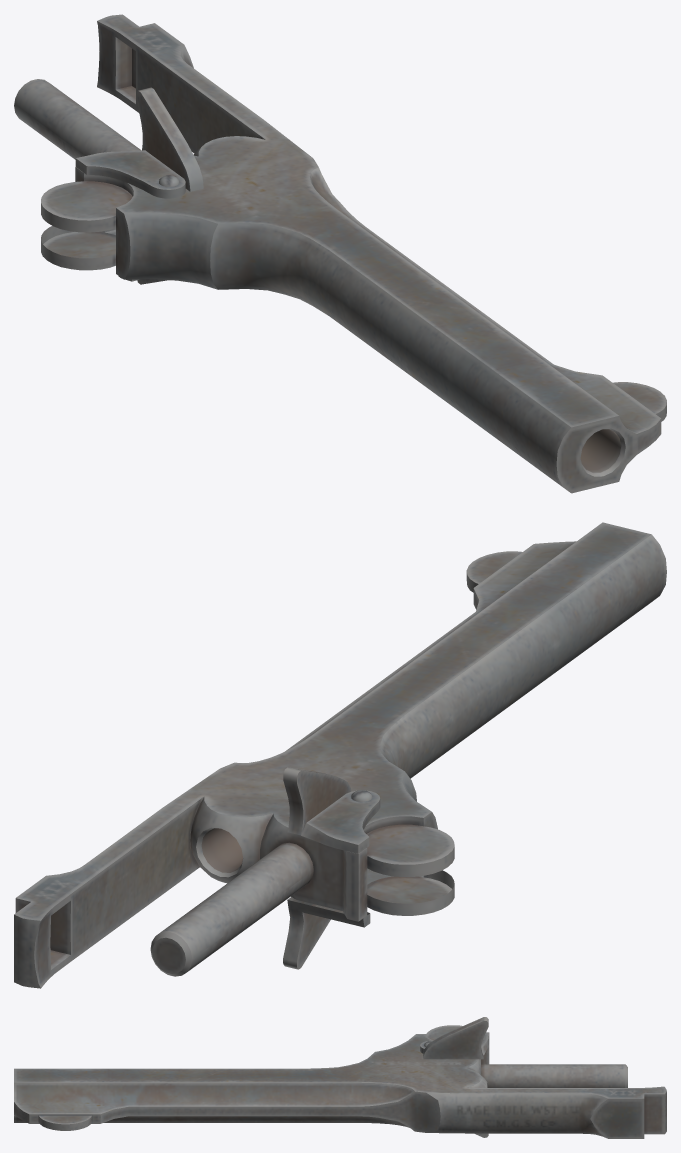
File: SM_RageBull_01b.fbx
3 views of the same model, one above another, from view 1: azimuth 30°, elevation 25°; view 2: azimuth 150°, elevation 25°; view 3: azimuth 270°, elevation 25° (orthographic). The views are drawn at different scales.
Visible parts, largest first — view 1: SM_RageBull_01b_LOD0; view 2: SM_RageBull_01b_LOD0; view 3: SM_RageBull_01b_LOD0.
Boxes of the visible parts, bbox=[...] form: SM_RageBull_01b_LOD0: bbox=[14, 14, 666, 493]; SM_RageBull_01b_LOD0: bbox=[14, 522, 666, 988]; SM_RageBull_01b_LOD0: bbox=[14, 1017, 666, 1138].
Size of the model in its own units: 7.32 by 23.11 by 4.56.
